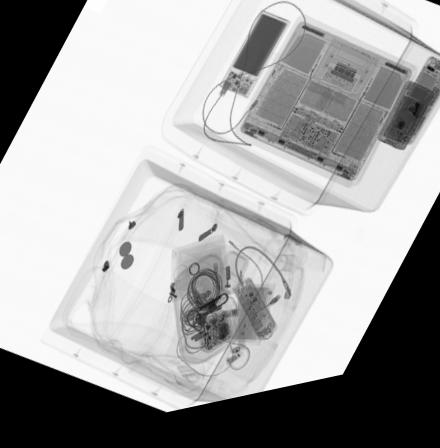Powerbank: (218, 21, 288, 108)
